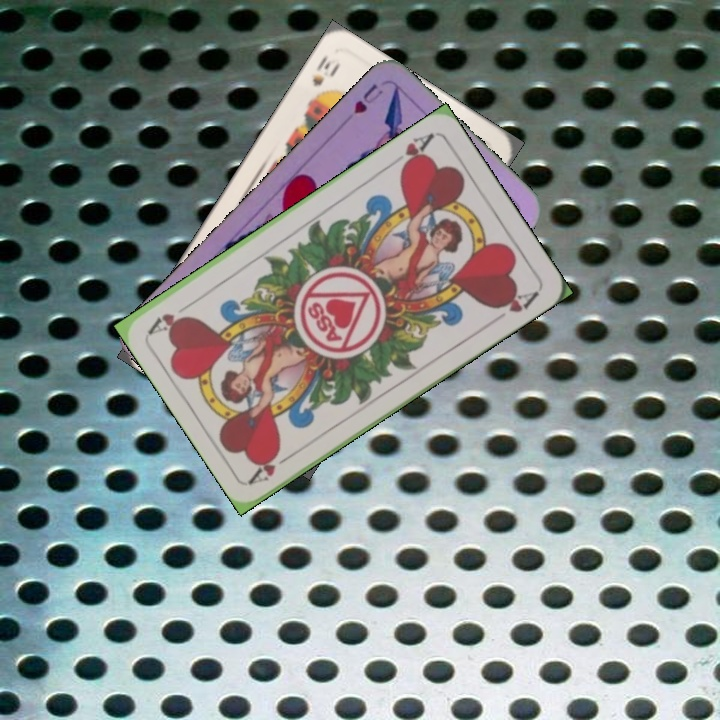HA: (385, 129, 437, 174), (246, 447, 299, 487)
HU: (349, 79, 386, 117)
S10: (304, 50, 343, 104)
